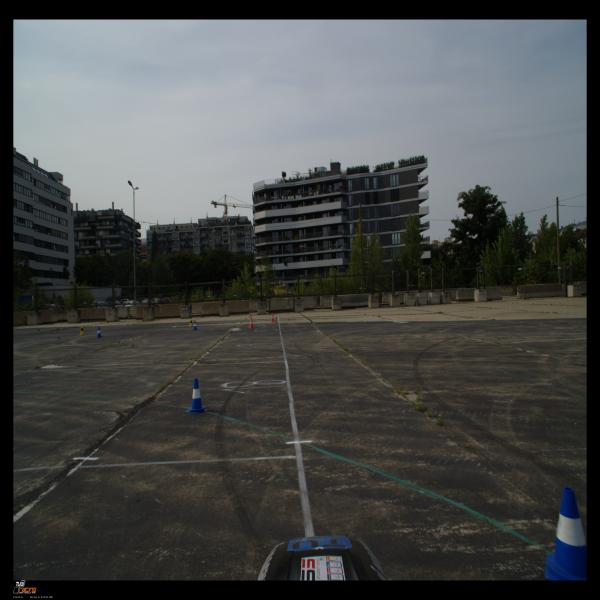blue_cone: (544, 486, 586, 580), (185, 378, 208, 414), (95, 326, 102, 338), (192, 320, 198, 330)
orange_cone: (249, 317, 254, 328), (270, 313, 275, 322)
yellow_cone: (78, 325, 85, 336), (188, 318, 194, 327)
